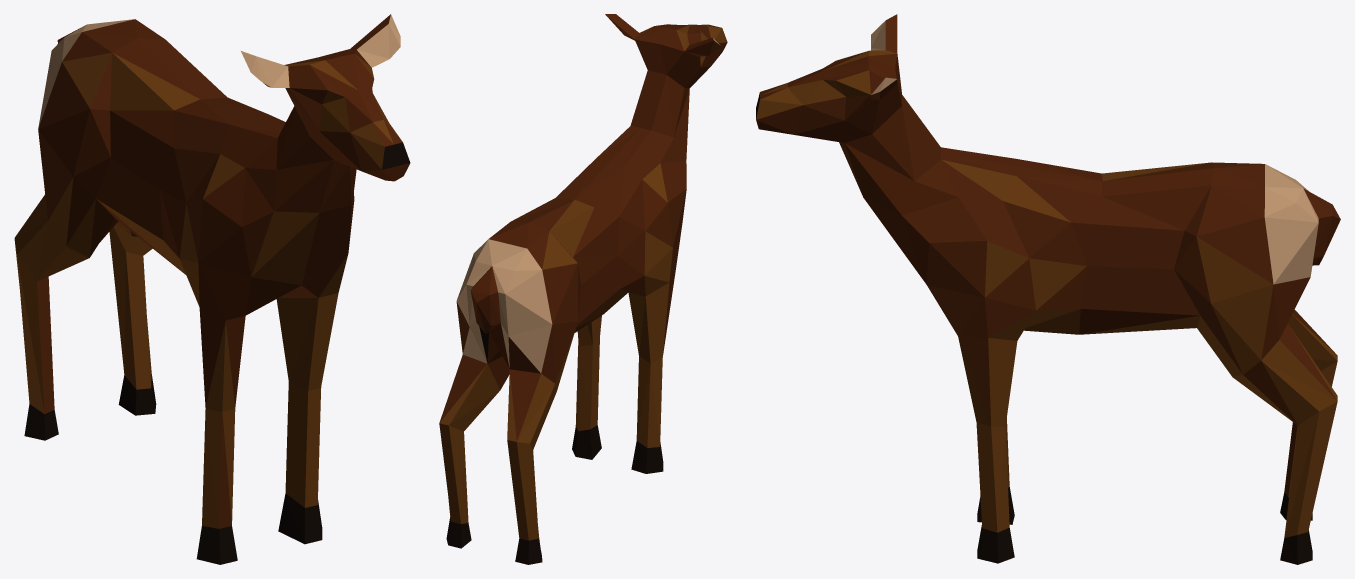
Rendered from Animal_Doe_M3.fbx.
The picture shows the model from 3 angles, left to right: view 1: azimuth 30°, elevation 25°; view 2: azimuth 150°, elevation 25°; view 3: azimuth 270°, elevation 25°; orthographic projection. The views are drawn at different scales.
Visible parts, largest first — view 1: Animal_Doe_M3; view 2: Animal_Doe_M3; view 3: Animal_Doe_M3.
Part boxes in pixels (bbox=[...]): Animal_Doe_M3: bbox=[14, 14, 410, 564]; Animal_Doe_M3: bbox=[439, 14, 727, 564]; Animal_Doe_M3: bbox=[756, 14, 1340, 564].
Bounding box in the file's own units: 60.3 × 212 × 229.
